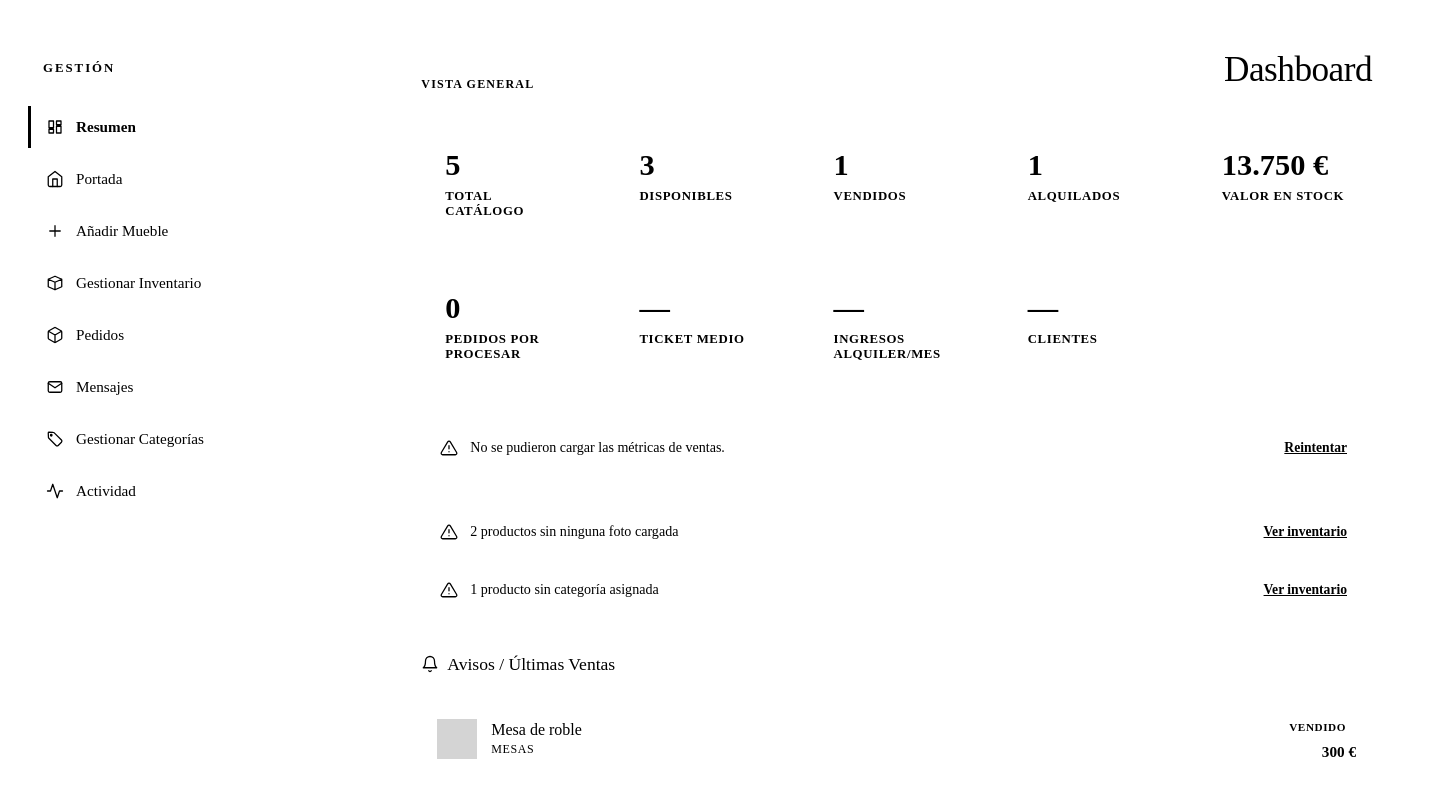
Test: Inventario — búsqueda y filtros › elegir una categoría general no enseña nada: las piezas llevan el nombre de su categoría específica
Click the button "Gestionar Inventario" at (185, 283), box [28,262,341,304]
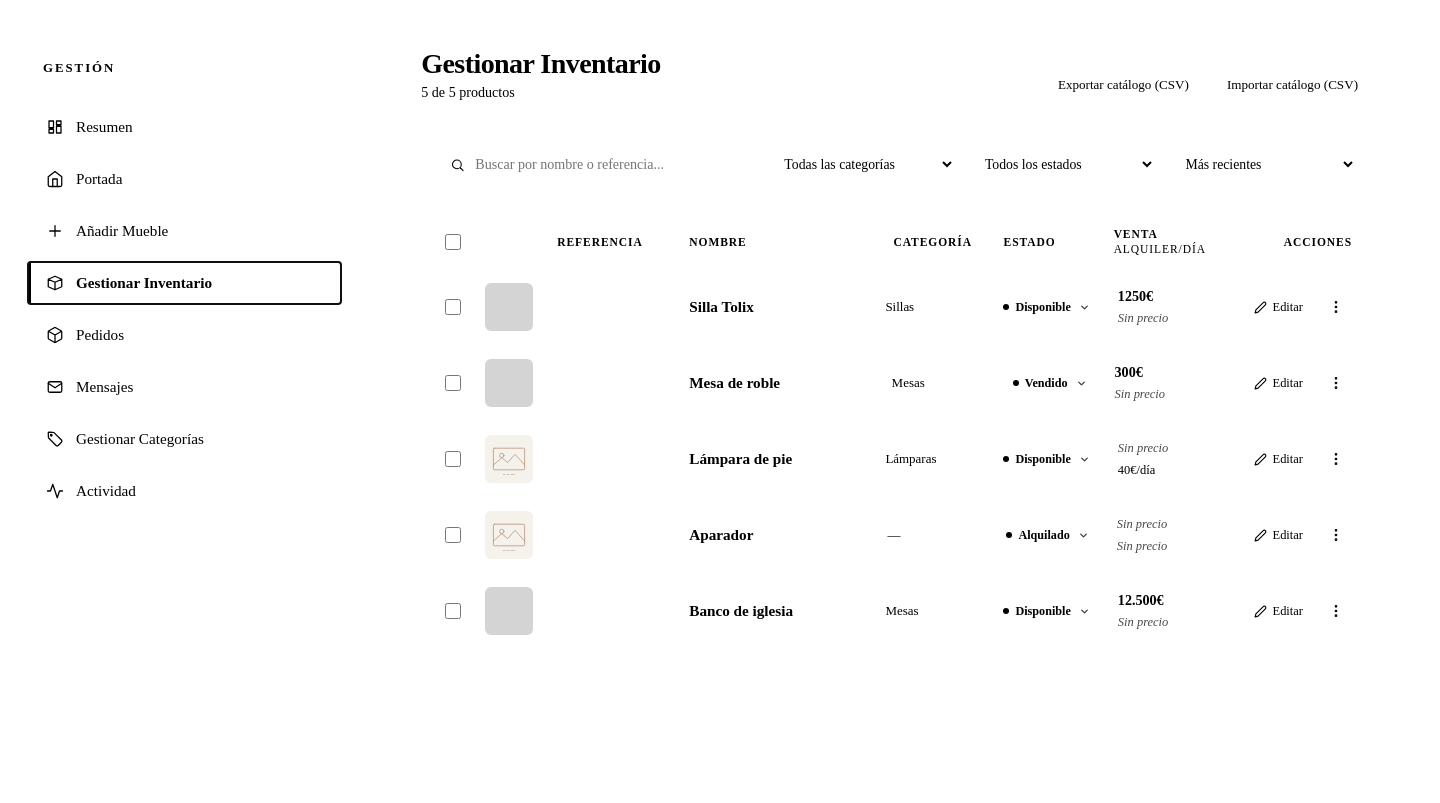
Select "Mobiliario" in the dropdown named "Filtrar por categoría" at (861, 164), box [766,147,955,182]
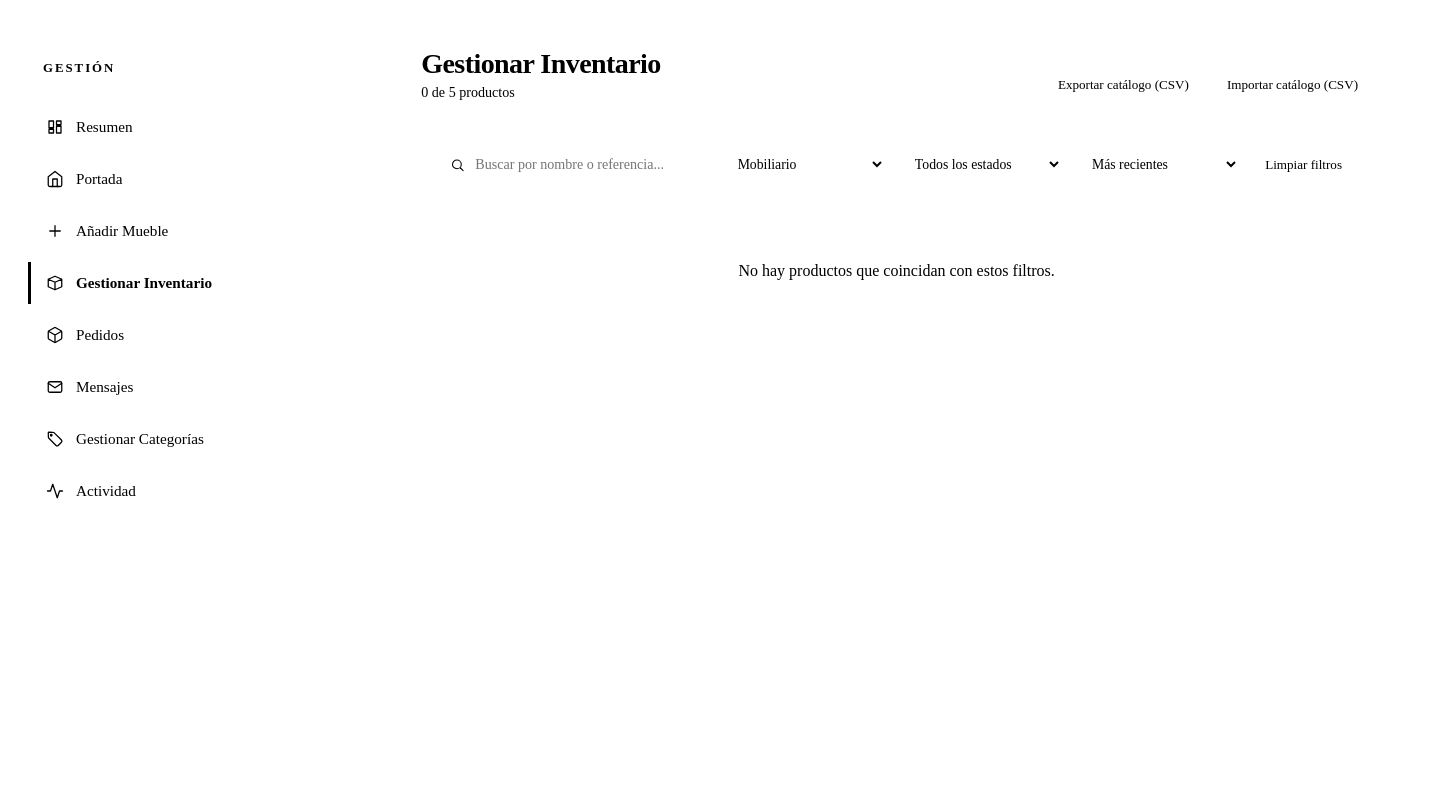
Check: the text "No hay productos que coincidan con estos filtros." is shown, box [738,262,1055,279]
